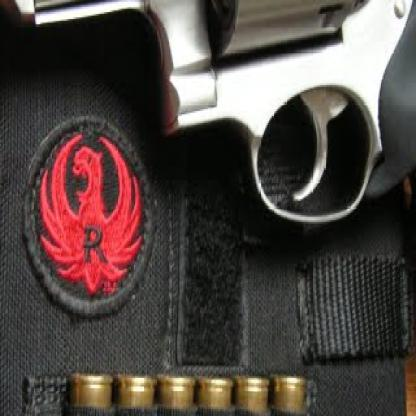gun: (0, 0, 415, 380)
